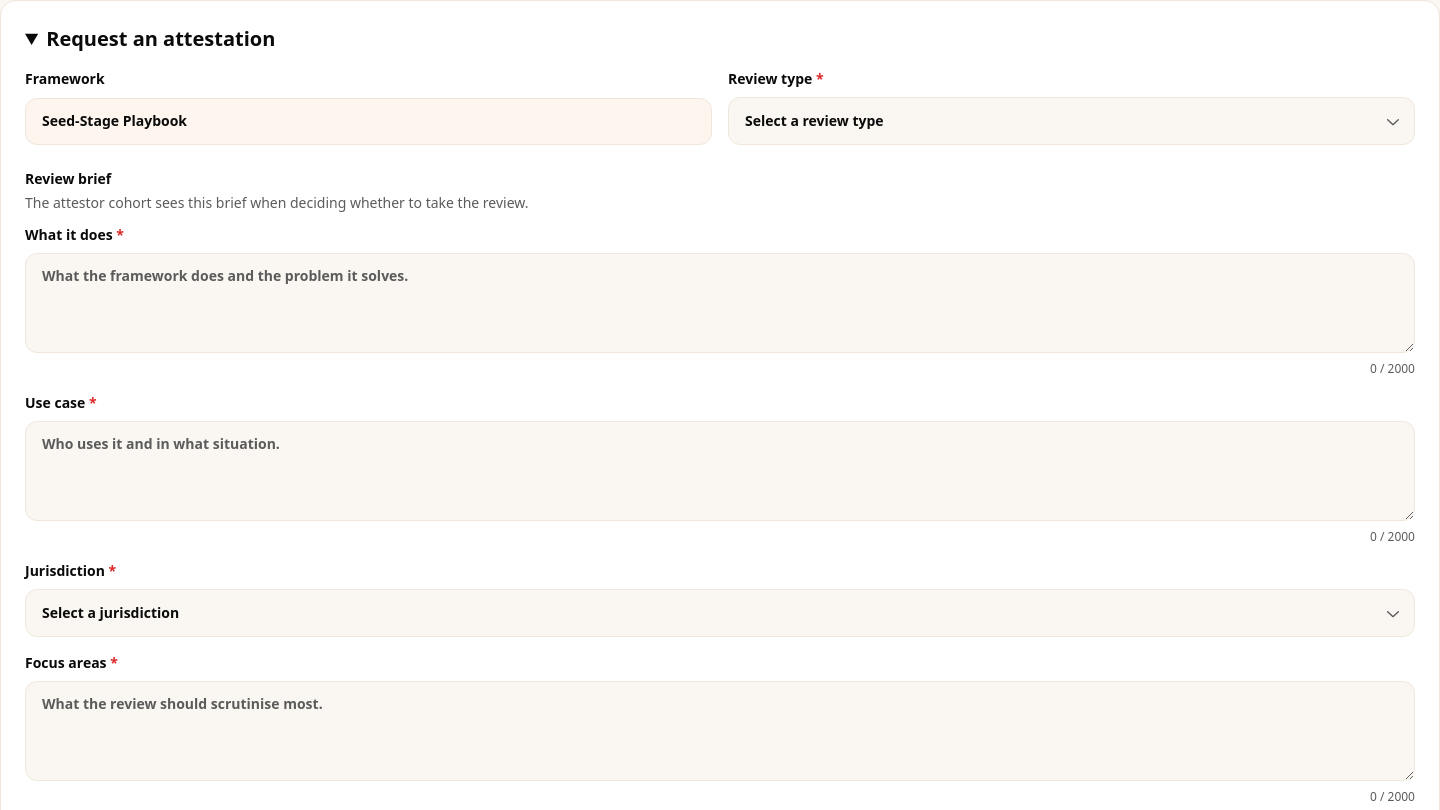
Test case: AttestationRequestForm brief limits › caps What it does at 2,000 characters with a live counter
Type "Hello" into the text box labelled "What it does *" at (720, 303), box [25, 253, 1415, 353]
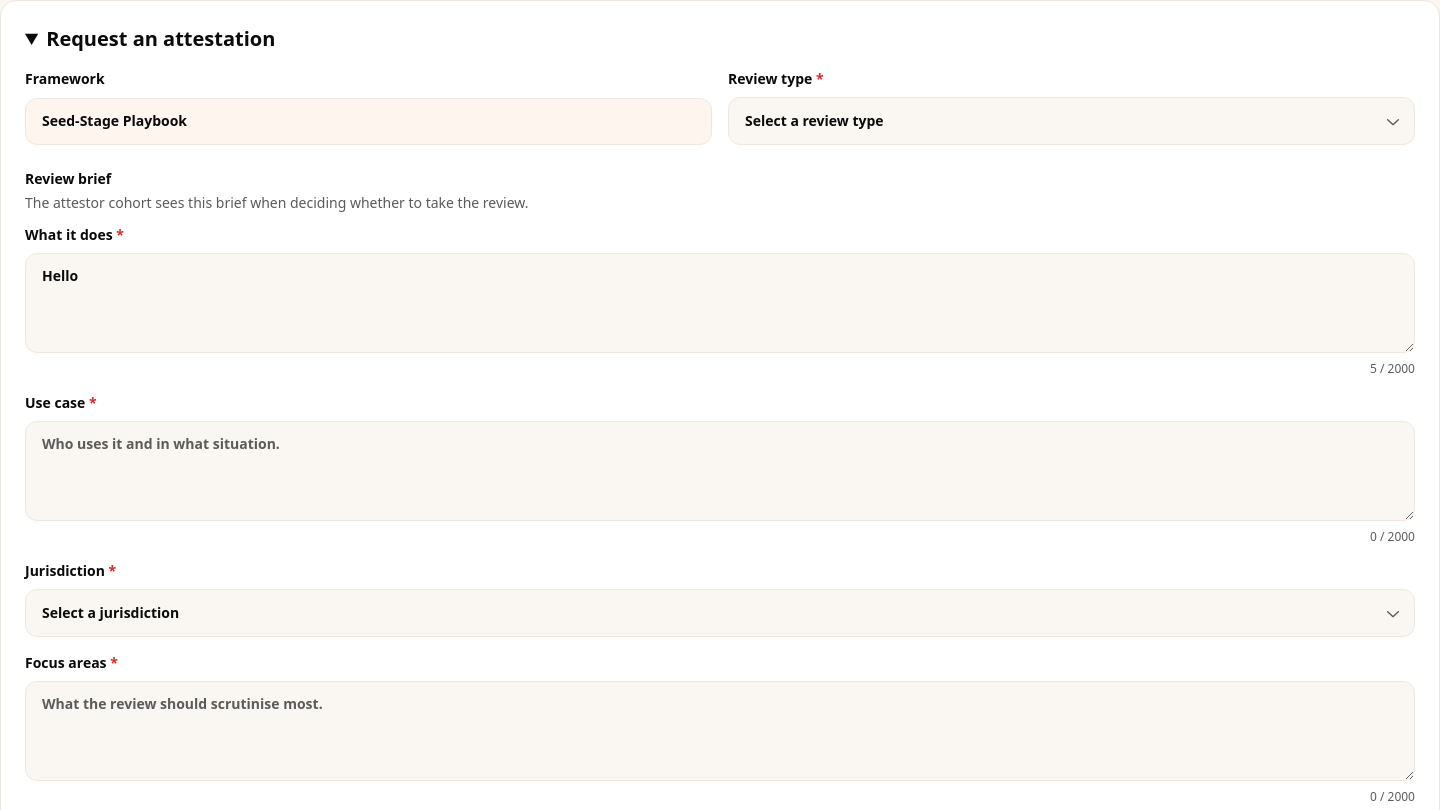
Now the text "5 / 2000" is shown, box [1370, 360, 1415, 377]
